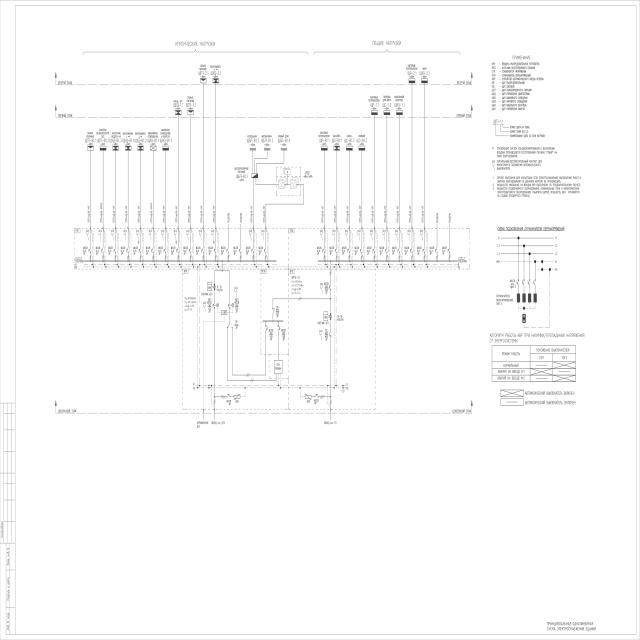-: (234, 301, 240, 313), (207, 301, 212, 314), (226, 399, 232, 405), (216, 288, 224, 292), (234, 324, 239, 329), (235, 400, 239, 403), (184, 270, 187, 272)
AUX: (202, 301, 207, 314), (234, 286, 238, 298)
AVR: (220, 310, 228, 316)
FV: (233, 393, 241, 400)
M: (216, 303, 219, 308), (232, 303, 234, 307)
QF: (227, 302, 231, 309), (212, 302, 216, 309), (226, 393, 231, 398)
TT: (212, 282, 216, 292)
WH: (207, 282, 212, 291)
switch: (226, 323, 233, 329)
